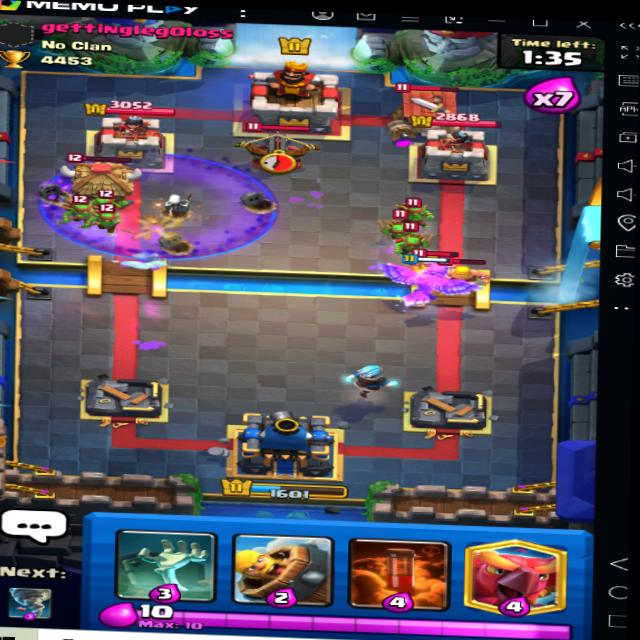barbarian: (442, 256, 495, 283)
barbarian-hut: (390, 80, 467, 137)
goblin-hut: (61, 151, 142, 203)
spear-goblin: (386, 195, 435, 225), (90, 202, 120, 232), (394, 233, 428, 258), (57, 199, 92, 223), (381, 221, 414, 240)
x-bow: (225, 114, 319, 177)
